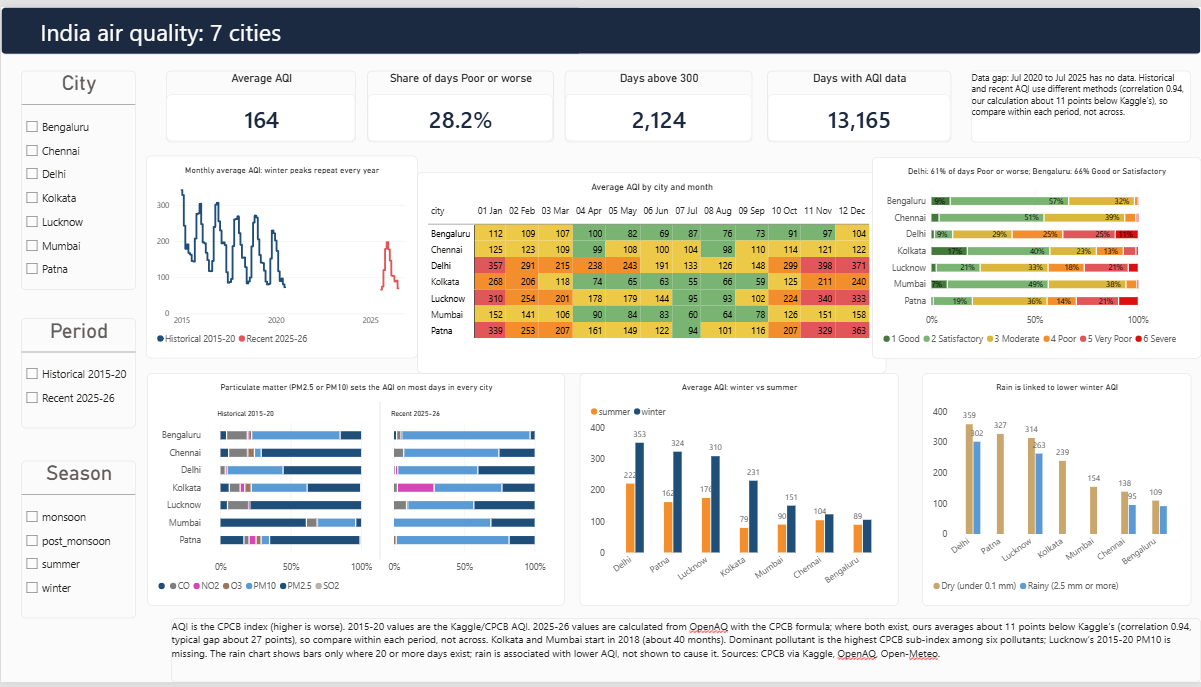

Layout of this report page (visuals, bound fields, positions):
{"tool":"powerbi","page":{"name":"Page 1","canvas":[1920,1080],"ordinal":0},"visuals":[{"type":"shape","box":[0,0,1920.1,76],"z":0},{"type":"textbox","box":[32,14,1298,62],"z":1000},{"type":"slicer","title":"City","fields":{"Values":["aqi_dashboard (2).city"]},"box":[32,102,184,350],"z":2000},{"type":"slicer","title":"Period","fields":{"Values":["aqi_dashboard (2).track"]},"box":[32,498,184,176],"z":3000},{"type":"slicer","title":"Season","fields":{"Values":["aqi_dashboard (2).season"]},"box":[32,726,184,252],"z":4000},{"type":"textbox","box":[1552,102,352,114],"z":5000},{"type":"cardVisual","title":"Average AQI","fields":{"Data":["aqi_dashboard.Average AQI"]},"box":[264,102,304,114],"z":6000},{"type":"cardVisual","title":"Share of days Poor or worse","fields":{"Data":["aqi_dashboard.Pct Poor or Worse"]},"box":[586,102,298,114],"z":7000},{"type":"cardVisual","title":"Days above 300","fields":{"Data":["aqi_dashboard.Days Above 300"]},"box":[902,102,300,114],"z":8000},{"type":"cardVisual","title":"Days with AQI data","fields":{"Data":["aqi_dashboard.Days With AQI"]},"box":[1226,102,294,114],"z":9000},{"type":"lineChart","title":"Monthly average AQI: winter peaks repeat every year","fields":{"Category":["aqi_dashboard.MonthStart"],"Series":["aqi_dashboard.track"],"Y":["aqi_dashboard.Average AQI"]},"box":[232,238,434,324],"z":10000},{"type":"pivotTable","title":"Average AQI by city and month","fields":{"Columns":["aqi_dashboard.month_label"],"Rows":["aqi_dashboard.city"],"Values":["aqi_dashboard.Average AQI"]},"box":[666,264,750,322],"z":11000},{"type":"barChart","fields":{"Category":["aqi_dashboard.city"],"Series":["aqi_dashboard.aqi_category"],"Y":["aqi_dashboard.Share of Days"]},"box":[1394,240,526,322],"z":12000},{"type":"hundredPercentStackedBarChart","title":"Particulate matter (PM2.5 or PM10) sets the AQI on most days in every city","fields":{"Category":["aqi_dashboard.city"],"Rows":["aqi_dashboard.track"],"Series":["aqi_dashboard.dominant_pollutant"],"Y":["aqi_dashboard.Dominant Share"]},"box":[234,586,668.3,371.7],"z":13000},{"type":"clusteredColumnChart","title":"Average AQI: winter vs summer","fields":{"Category":["aqi_dashboard.city"],"Series":["aqi_dashboard.season"],"Y":["aqi_dashboard.Average AQI"]},"box":[926,586,510,372],"z":14000},{"type":"clusteredColumnChart","title":"Rain is linked to lower winter AQI","fields":{"Category":["aqi_dashboard.city"],"Series":["aqi_dashboard.rain_group"],"Y":["aqi_dashboard.Avg AQI Min20"]},"box":[1474,586,430,372],"z":15000},{"type":"textbox","box":[272,978,1648,102],"z":16000}]}

Visuals, with their boxes in screenshot pixels (x1, y1, x2, y2), scaled from the page's 1920x1080 canvas onto the 1201x687 screenshot:
shape: 0 0 1200 48
textbox: 20 9 832 48
"City" slicer: 20 65 135 288
"Period" slicer: 20 317 135 429
"Season" slicer: 20 462 135 622
textbox: 971 65 1191 137
"Average AQI" cardVisual: 165 65 355 137
"Share of days Poor or worse" cardVisual: 367 65 553 137
"Days above 300" cardVisual: 564 65 752 137
"Days with AQI data" cardVisual: 767 65 951 137
"Monthly average AQI: winter peaks repeat every year" lineChart: 145 151 417 357
"Average AQI by city and month" pivotTable: 417 168 886 373
barChart - aqi_dashboard.city x aqi_dashboard.aqi_category: 872 153 1200 357
"Particulate matter (PM2.5 or PM10) sets the AQI on most days in every city" hundredPercentStackedBarChart: 146 373 564 609
"Average AQI: winter vs summer" clusteredColumnChart: 579 373 898 609
"Rain is linked to lower winter AQI" clusteredColumnChart: 922 373 1191 609
textbox: 170 622 1200 686
